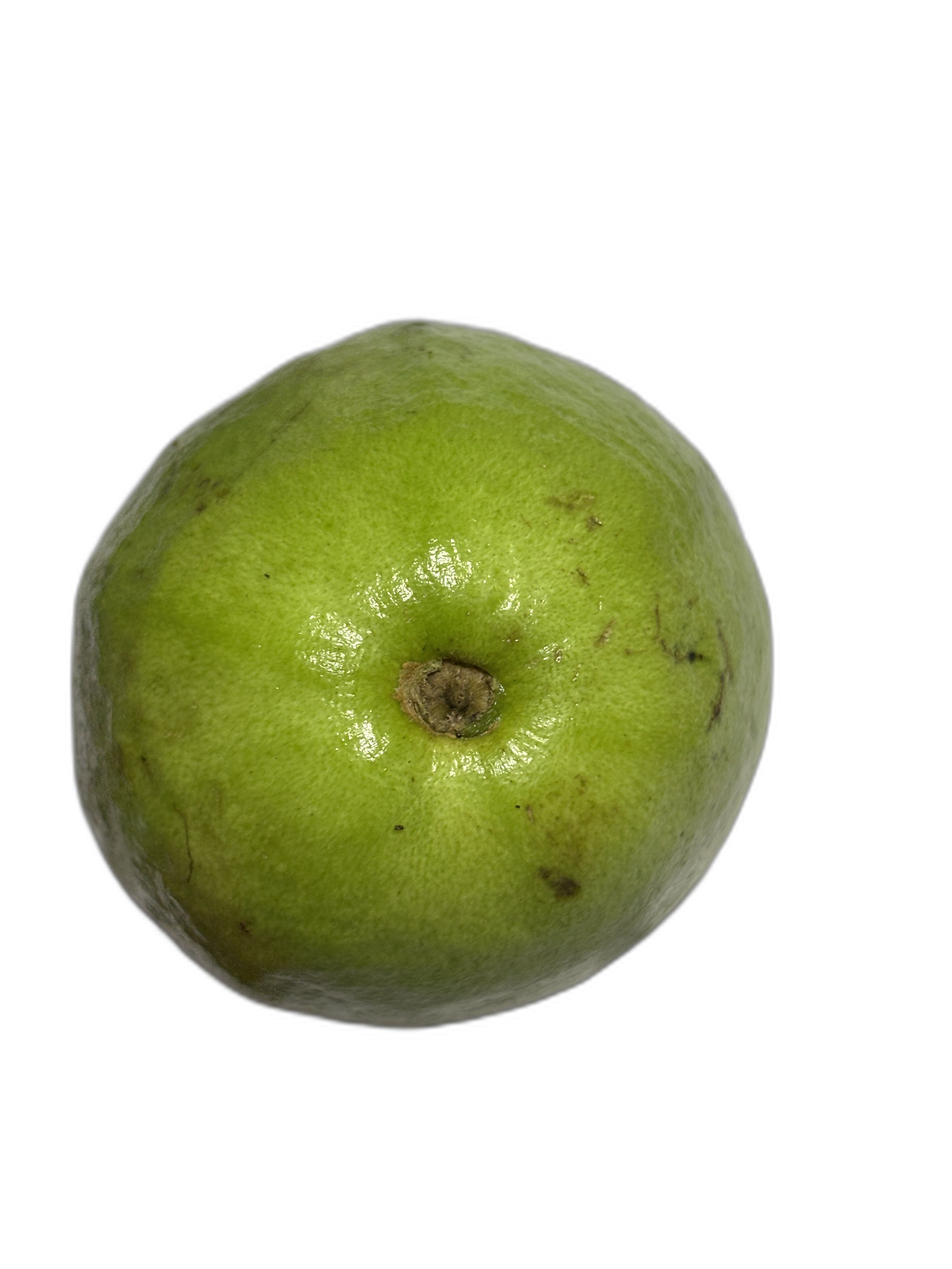guava: (17, 177, 853, 1179)
